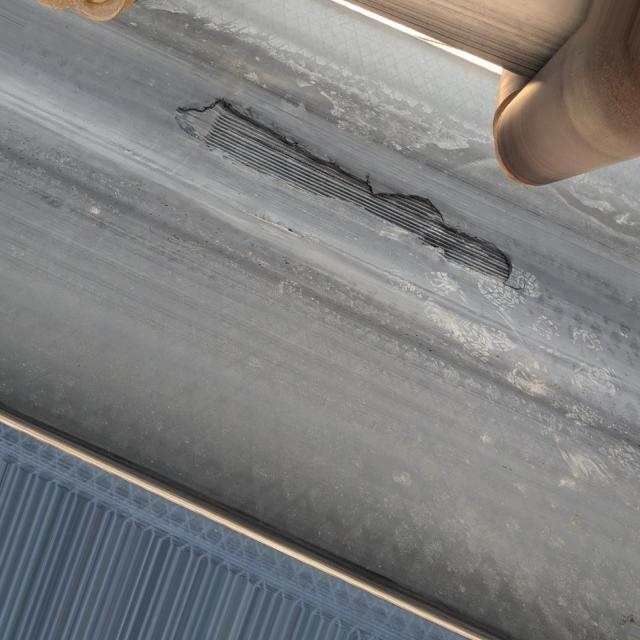Roller: (495, 0, 640, 181), (38, 0, 136, 18)
Tear: (169, 90, 518, 293)
